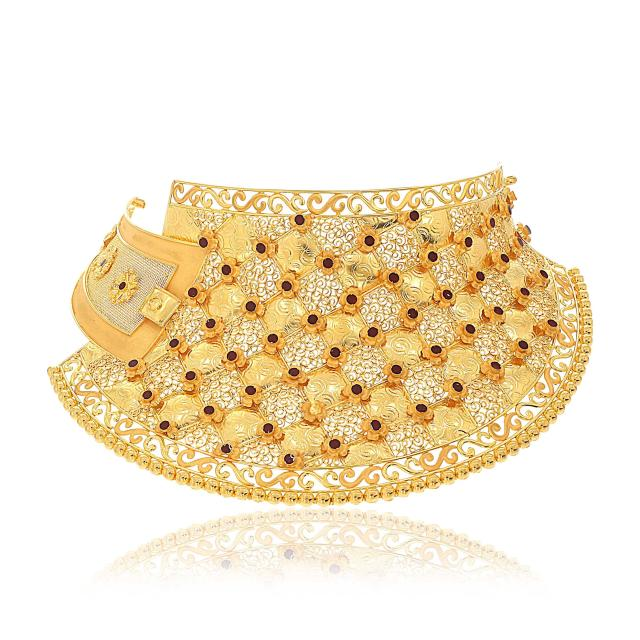missing gem: (310, 405, 321, 415)
